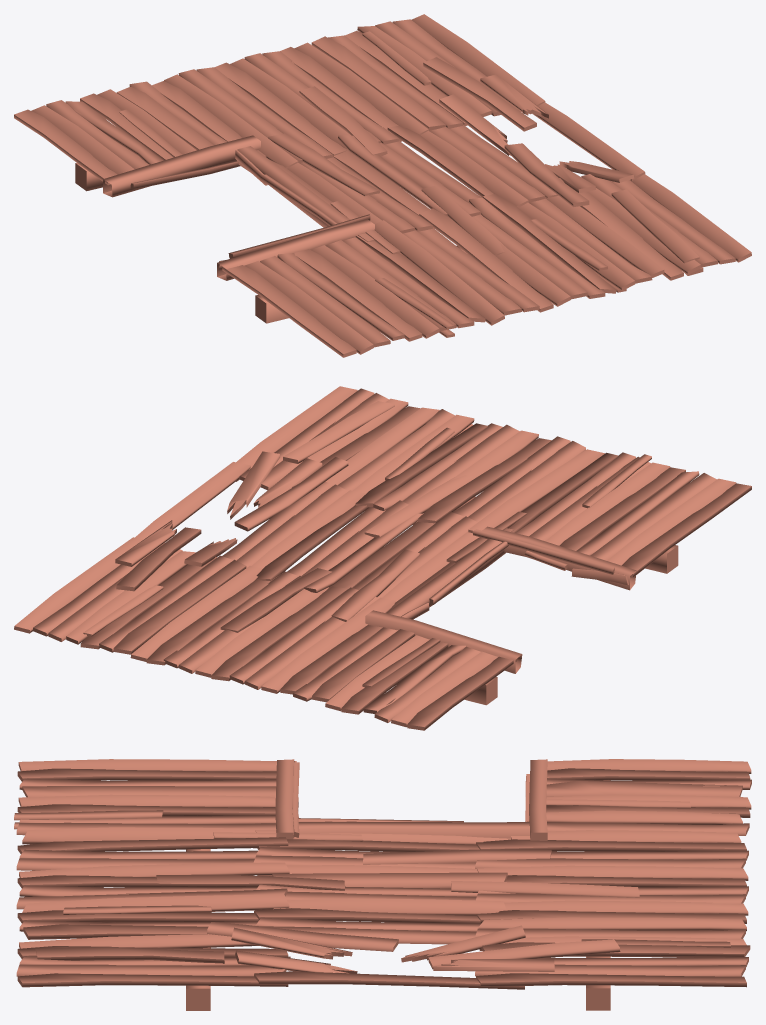
File: floor_02.fbx
The picture shows the model from 3 angles, top to bottom: view 1: azimuth 30°, elevation 25°; view 2: azimuth 150°, elevation 25°; view 3: azimuth 270°, elevation 25°; orthographic projection. The views are drawn at different scales.
Visible parts, largest first — view 1: Plane.019; view 2: Plane.019; view 3: Plane.019.
Boxes of the visible parts, x1,y1,x2,y2 form: Plane.019: (14,14,751,357); Plane.019: (14,386,751,730); Plane.019: (14,759,751,1010).
Bounding box in the file's own units: 7.88 × 0.6798 × 10.98.
